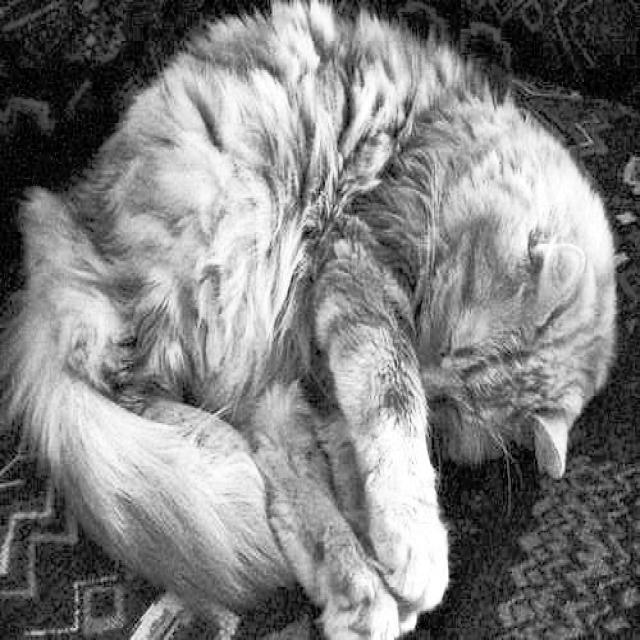Cat: (0, 24, 616, 576)
